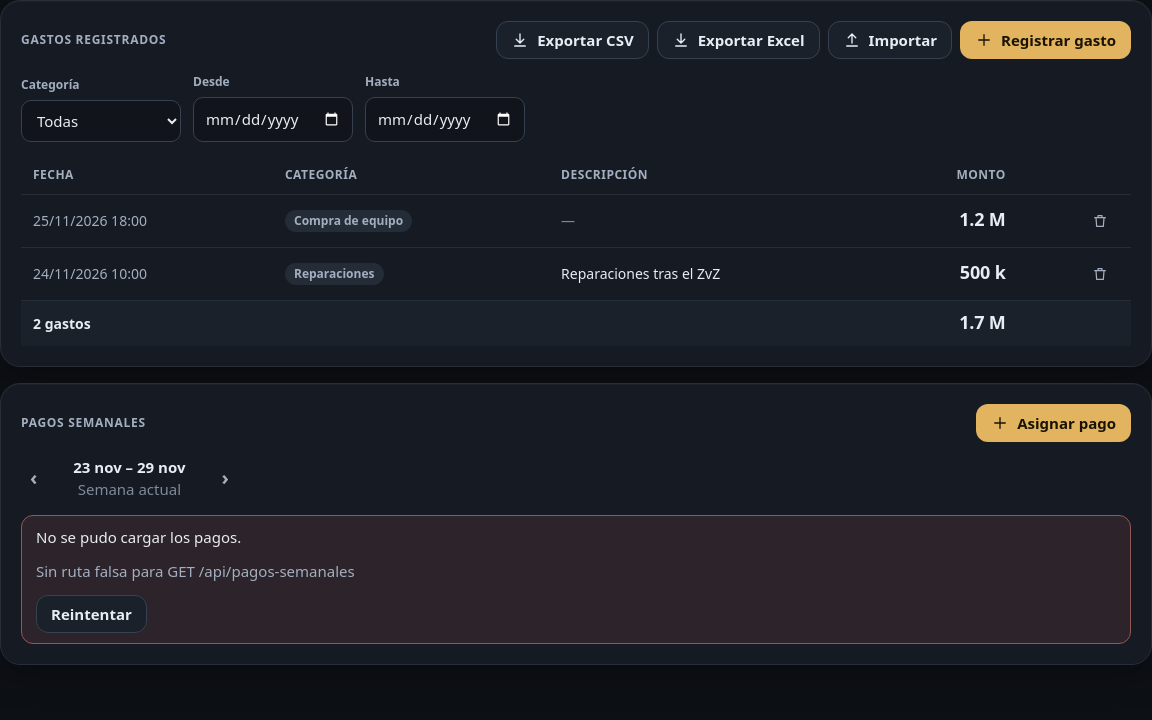
Test case: permisos y acciones › el admin registra un gasto desde un cajón e importa desde un CSV
Check: the table is shown, box [21,156,1131,346]
Click the button "Registrar gasto": {"x": 1046, "y": 40} [960,21,1131,59]
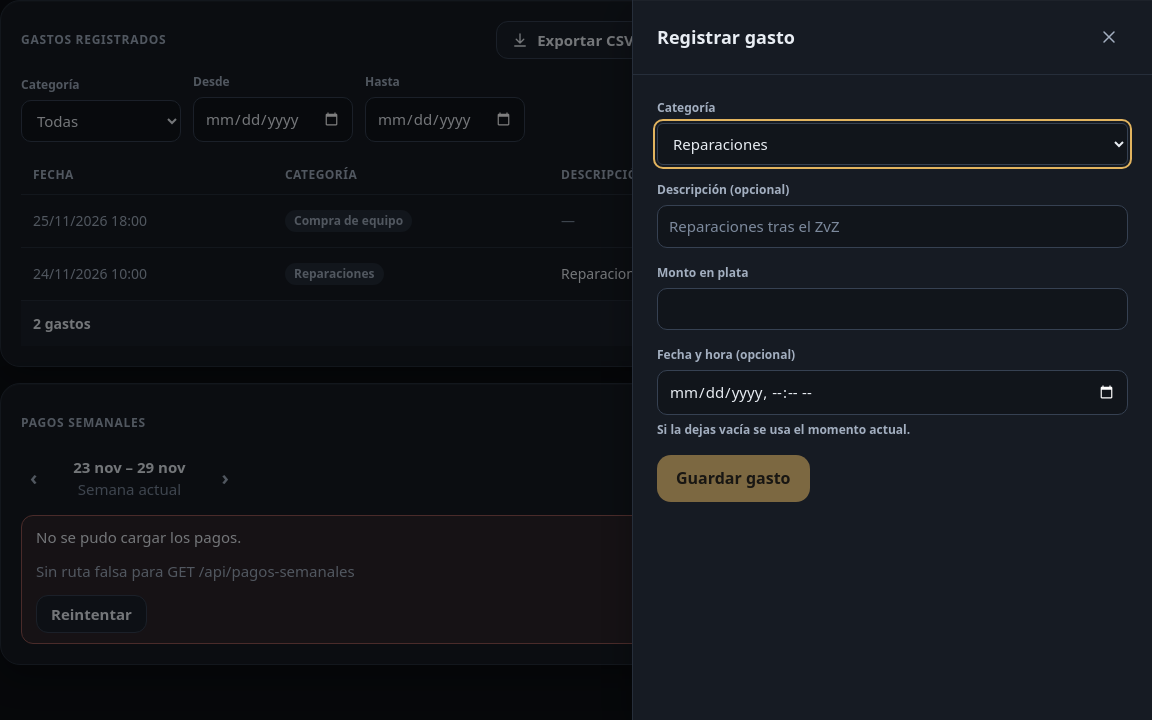
Check: the dialog "Registrar gasto" is shown, box [632,0,1151,719]
Press Escape
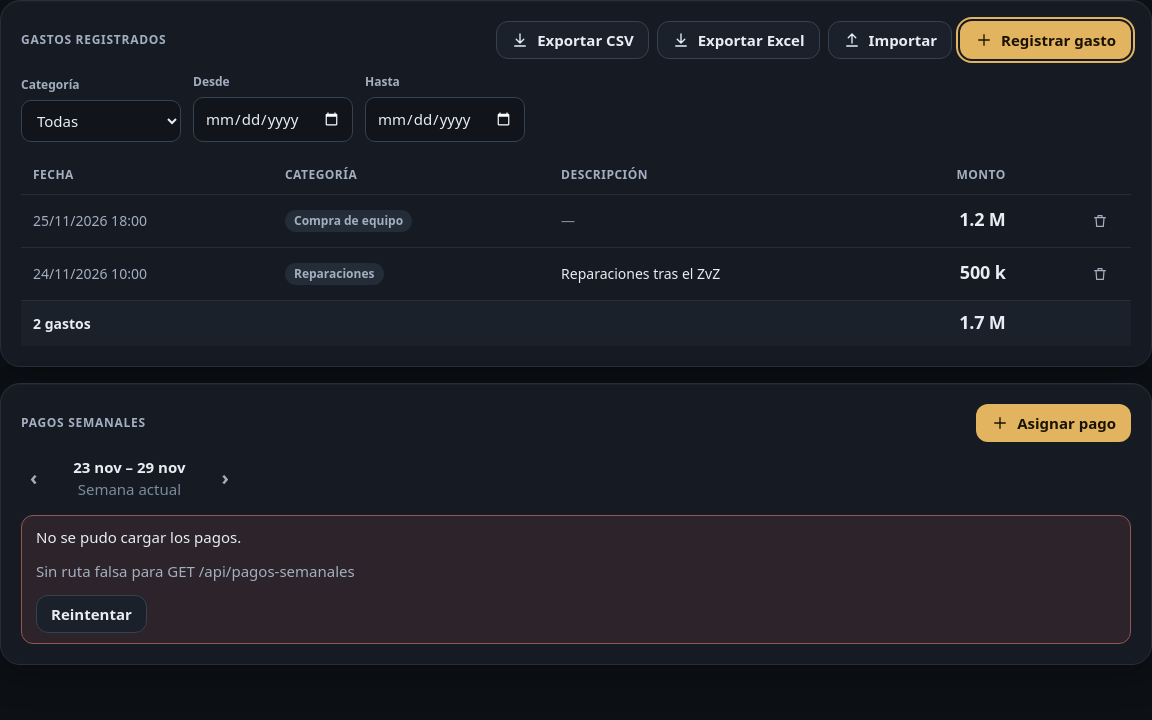
Click the button "Importar": {"x": 890, "y": 40} [828,21,952,59]
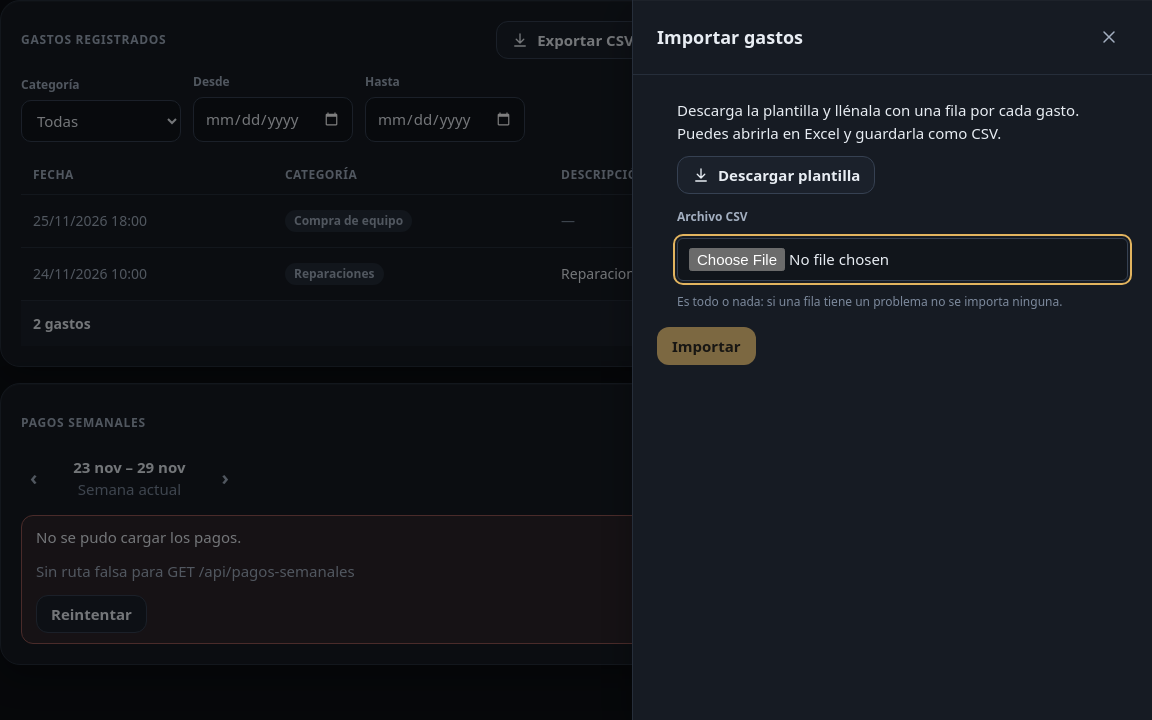
Check: the dialog "Importar gastos" is shown, box [632,0,1151,719]
